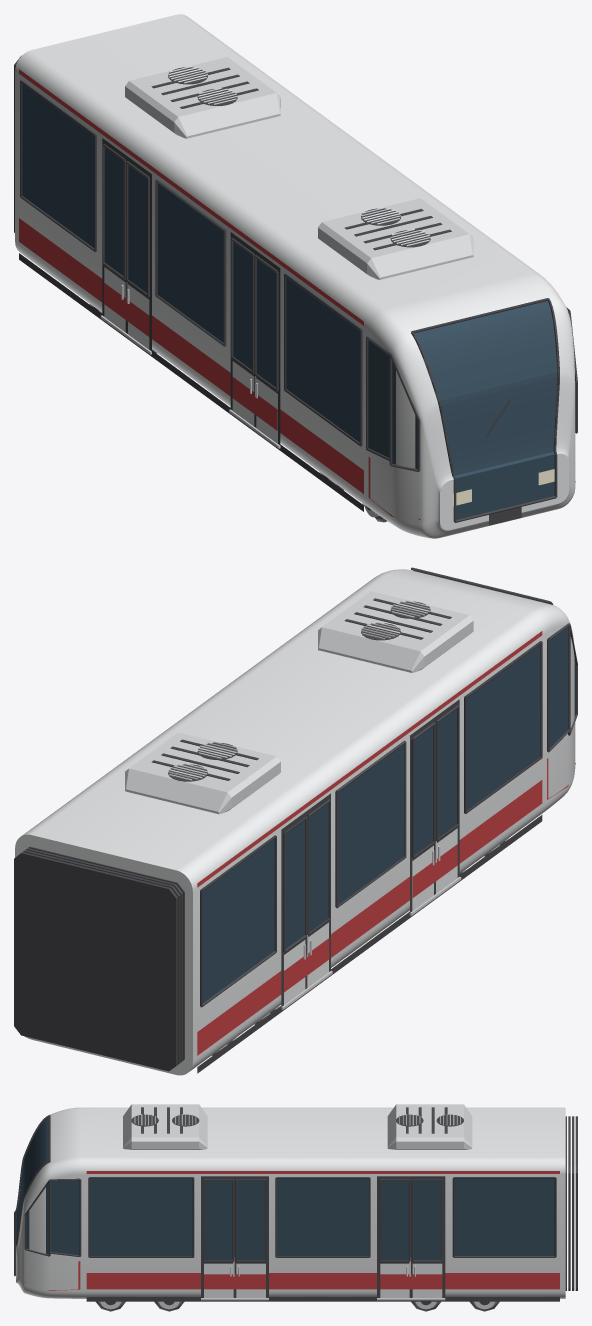
Rendered from 370_close.fbx.
3 renders of one model, top to bottom at view 1: azimuth 30°, elevation 25°; view 2: azimuth 150°, elevation 25°; view 3: azimuth 270°, elevation 25°, orthographic. The views are drawn at different scales.
Visible parts, largest first — view 1: 370_close; view 2: 370_close; view 3: 370_close.
Boxes of the visible parts, bbox=[...] form: 370_close: bbox=[14, 14, 577, 538]; 370_close: bbox=[14, 567, 577, 1075]; 370_close: bbox=[14, 1104, 577, 1311].
Size of the model in its own units: 2.59 by 3.39 by 10.02.
